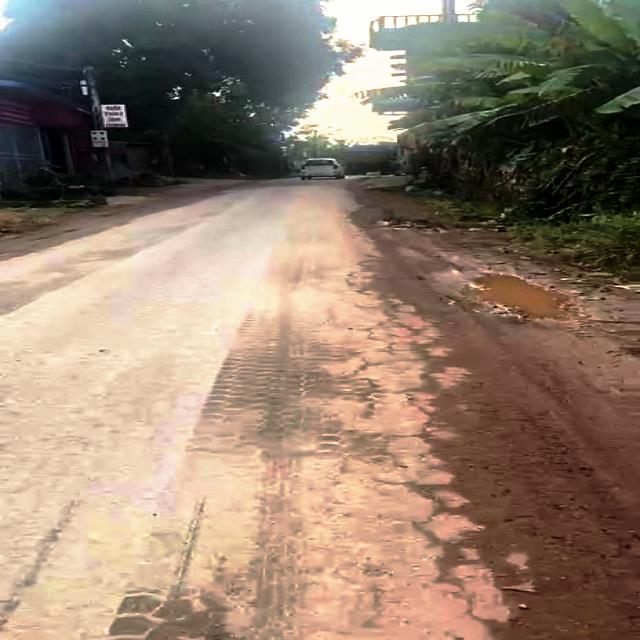pothole: (448, 264, 590, 328)
